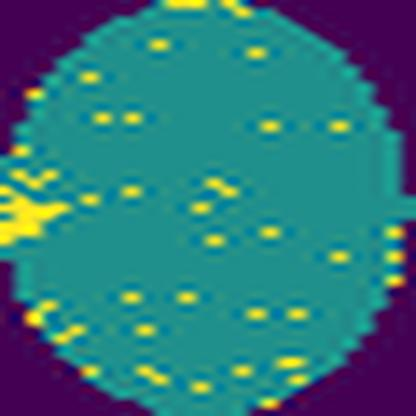Edge-Loc: (0, 183, 72, 247)
